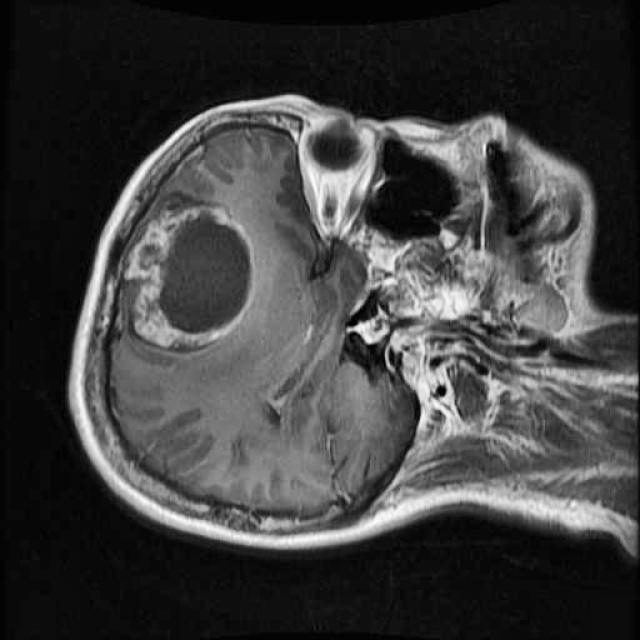Tumor: (110, 183, 280, 375)
